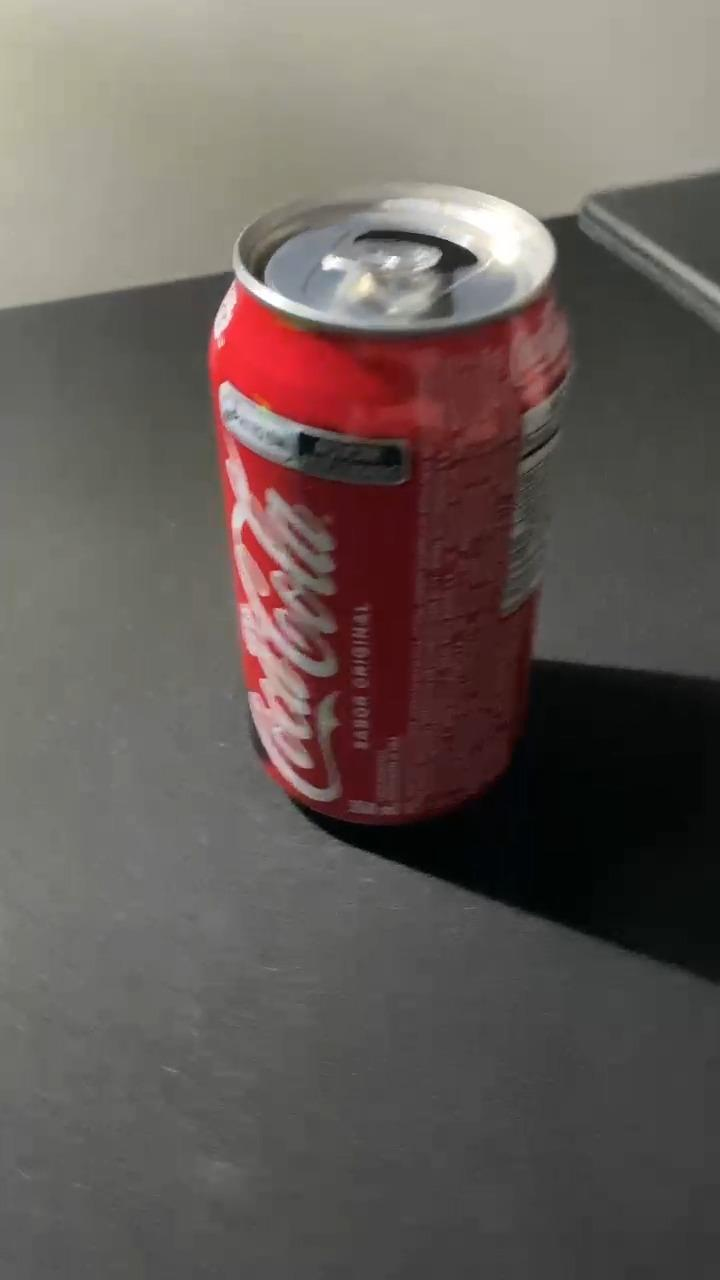coke: (209, 188, 572, 823)
